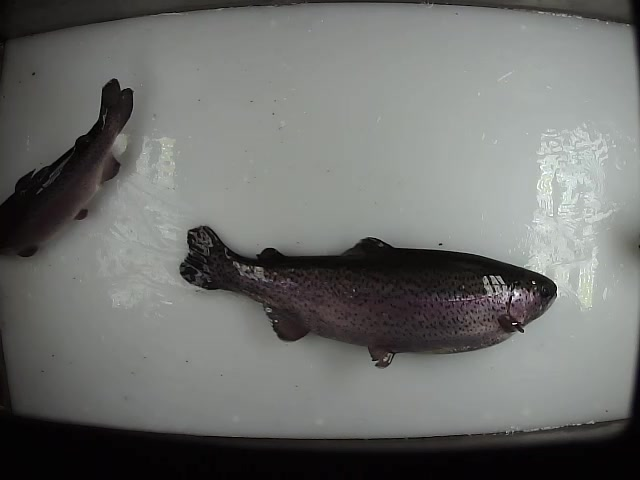fish: (177, 224, 560, 370), (1, 76, 135, 262)
